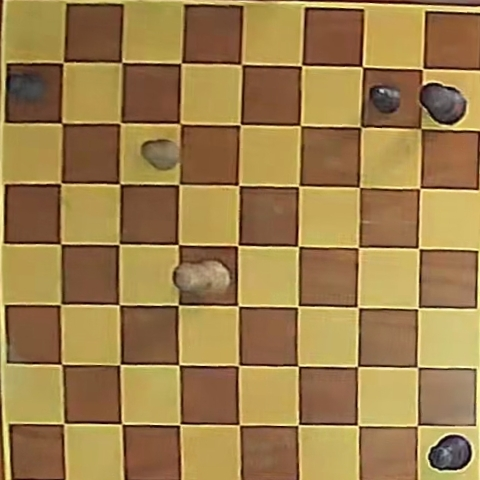black-king: (419, 83, 466, 124)
black-pawn: (8, 71, 46, 102), (370, 85, 402, 113)
black-queen: (428, 434, 471, 472)
white-king: (174, 259, 233, 295)
white-pawn: (141, 139, 180, 170)
